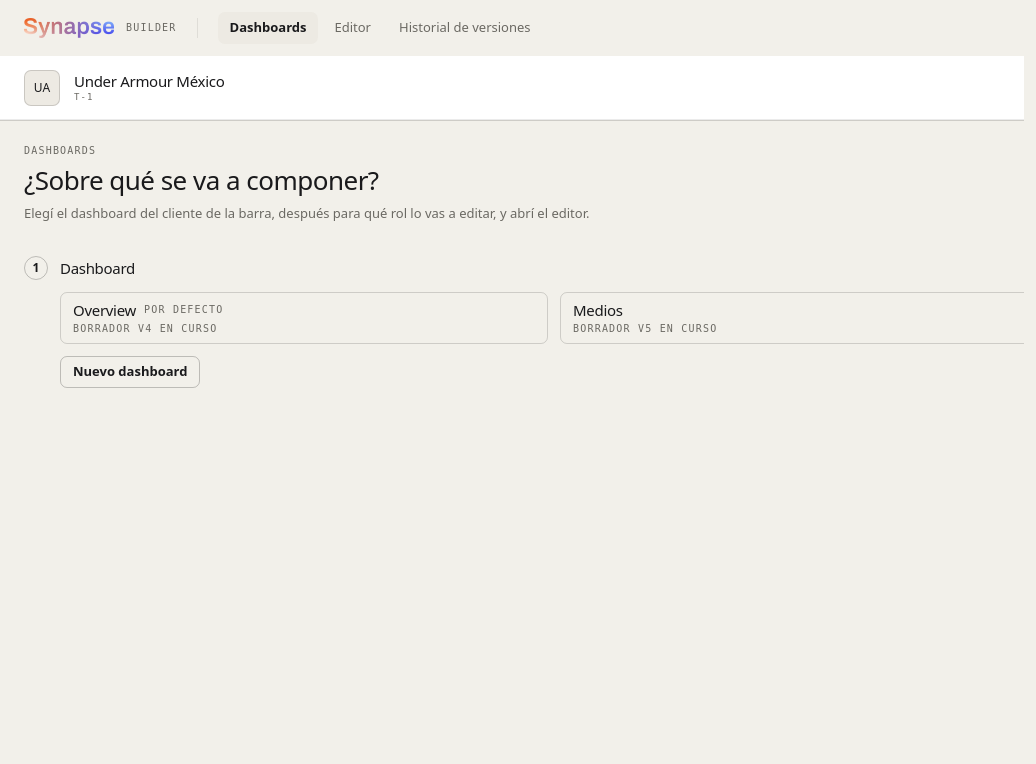
Test: el inspector de la pestaña · se abre y se cierra › no está hasta que se pide · «Ajustes de la pestaña» lo abre para la activa
Click the button "Overview Por defecto Borrador v4 en curso" at coordinates (105, 310), box [60,292,548,344]
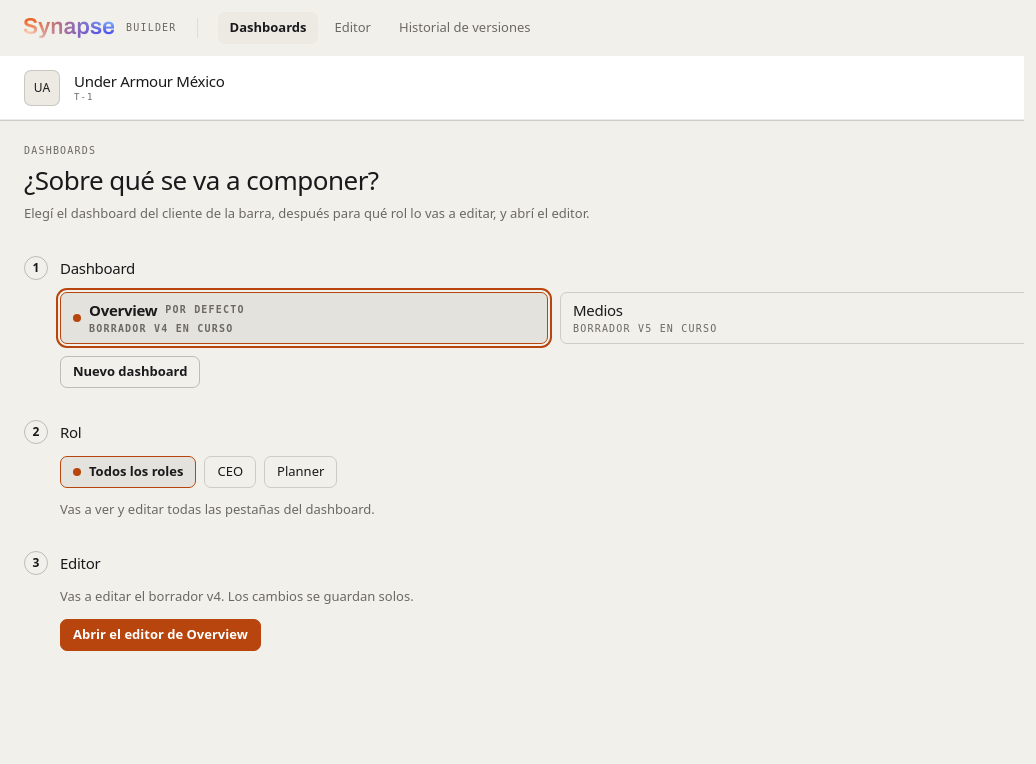
Click the button "Abrir el editor de Overview" at coordinates (160, 635), box [60,619,261,651]
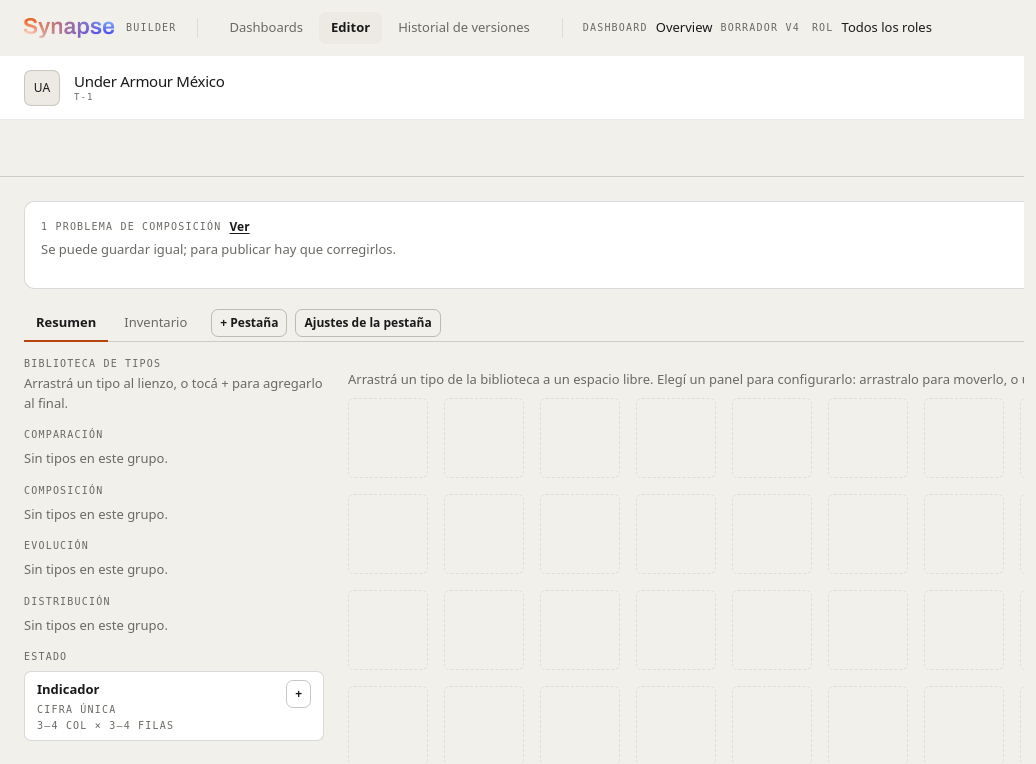
Check: the tab "Resumen" is shown, box [24,304,108,342]
Click the button "Ajustes de la pestaña" at coordinates (368, 323), box [295,309,441,337]
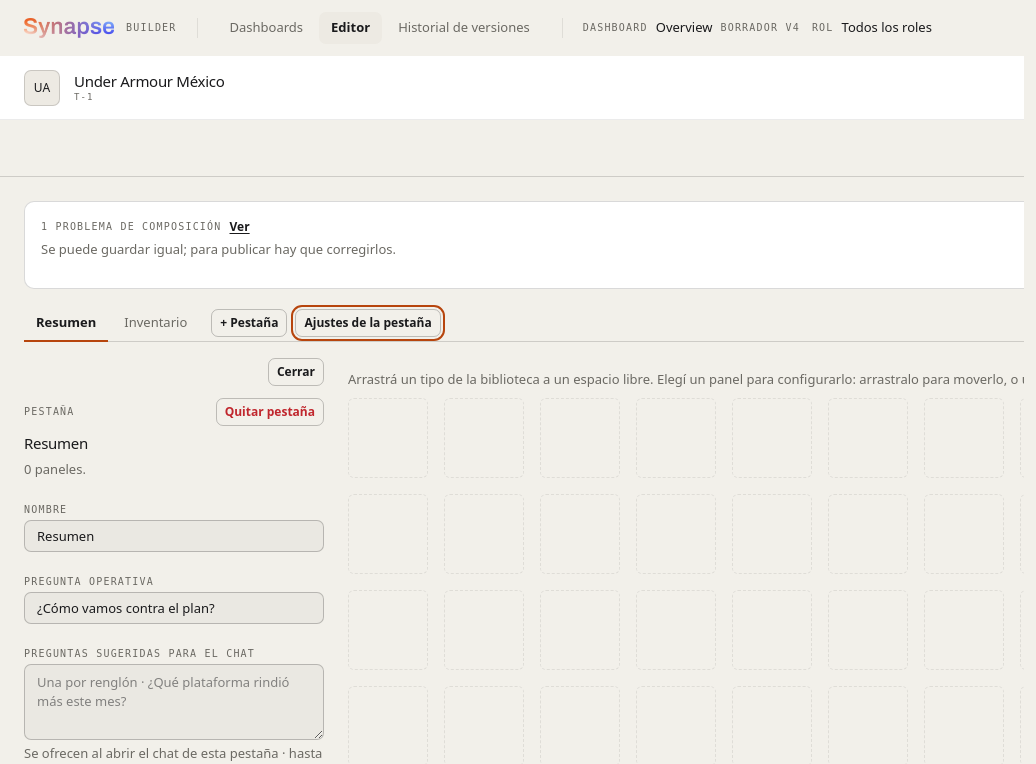
Check: the field labelled "Nombre" holds "Resumen", box [24,520,324,552]
